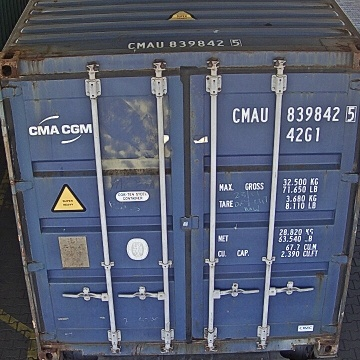serial_id: (233, 106, 356, 122)
